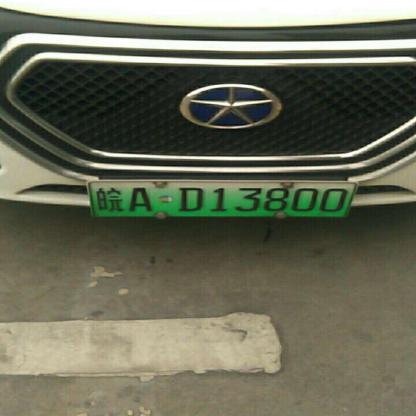lp: (88, 182, 356, 217)
